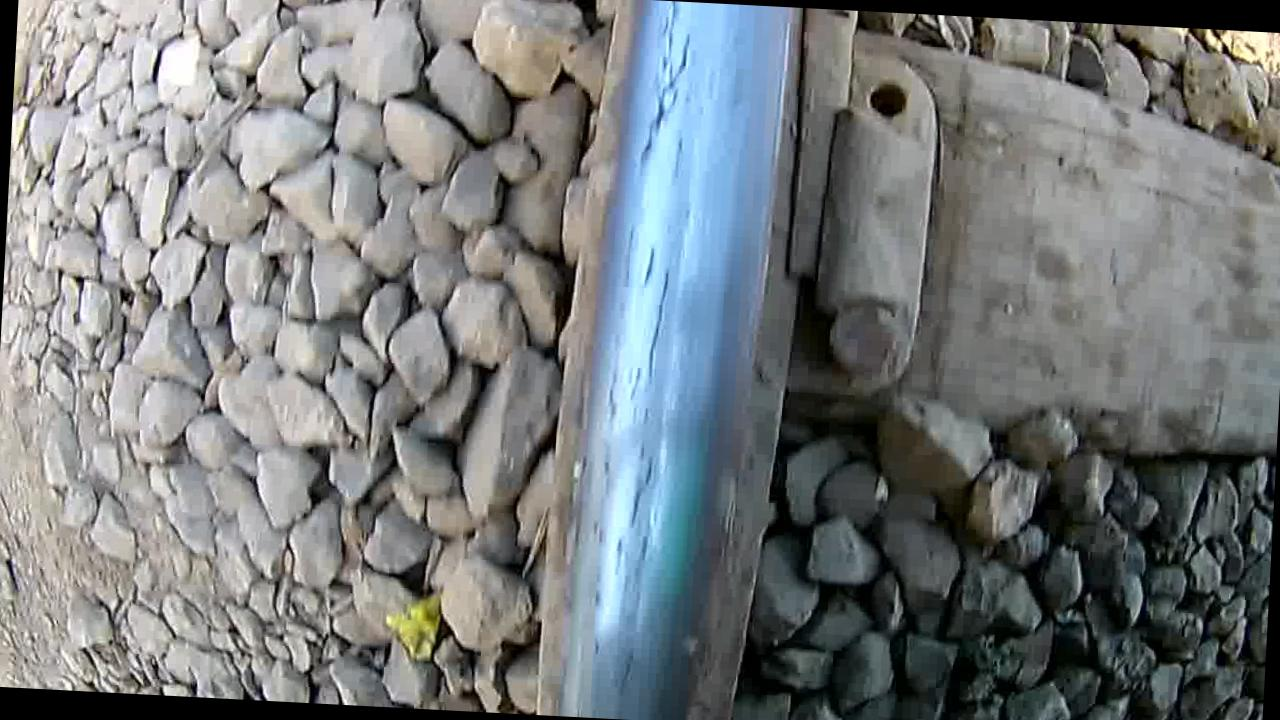normal_track: (590, 0, 719, 720)
